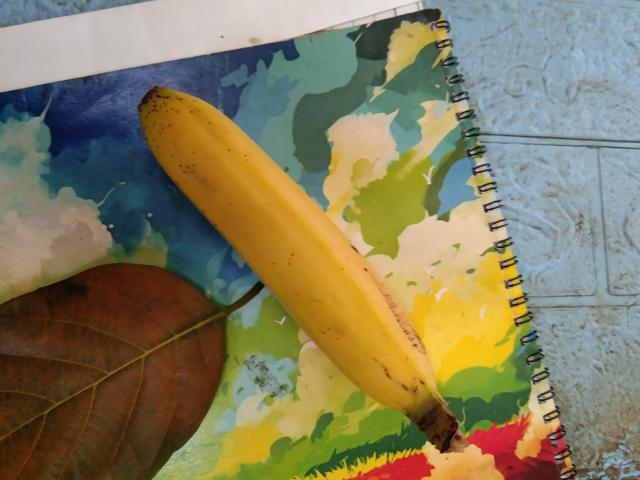freshripe: (136, 79, 430, 427)
